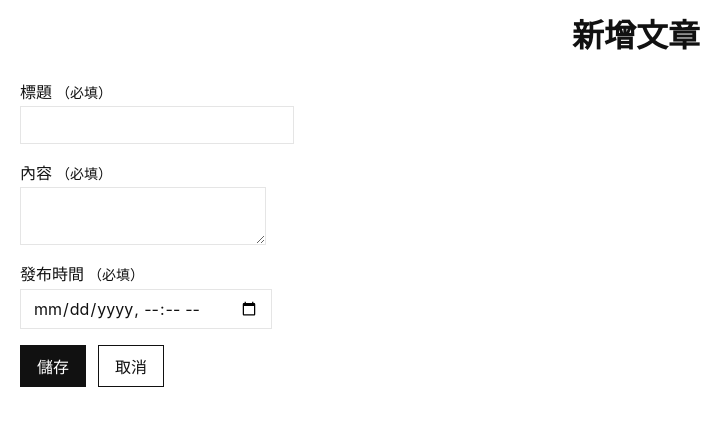
Scenario: ArticleForm › AC6: 標題留空送出時顯示「請輸入標題」錯誤,不導向,已填寫的其他欄位保留
Check: the heading "新增文章" is shown, box [572,16,700,55]
Type "我的內容" into the text box labelled "內容".
click(143, 216); type("我的內容")  # box [20,187,266,245]
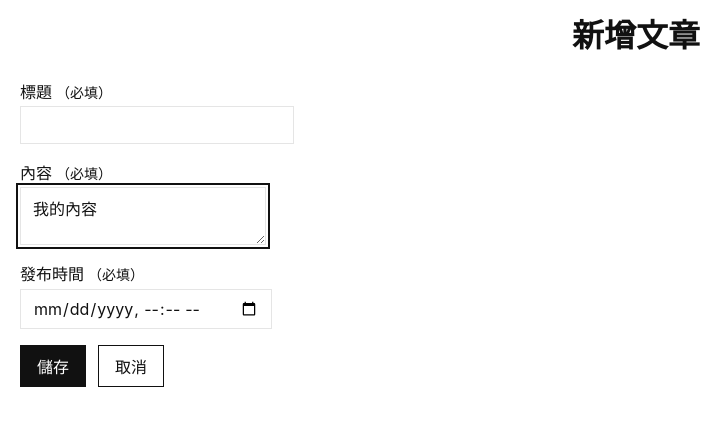
Type "2026-08-13T10:00" into the field labelled "發布時間".
click(146, 309); type("2026-08-13T10:00")  # box [20,289,272,329]
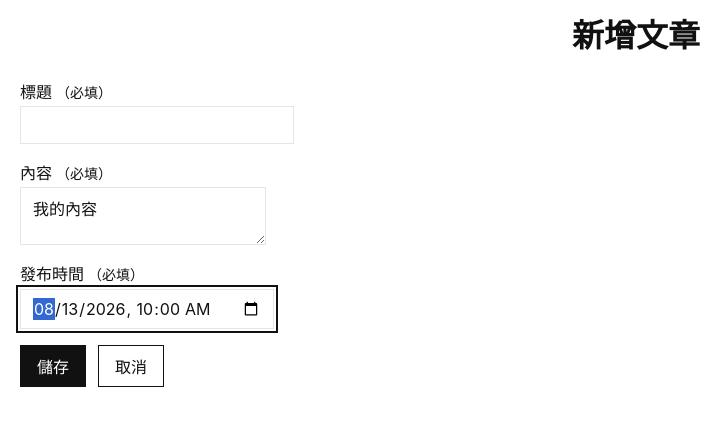
Click the button "儲存".
click(53, 366)  # box [20,345,86,387]
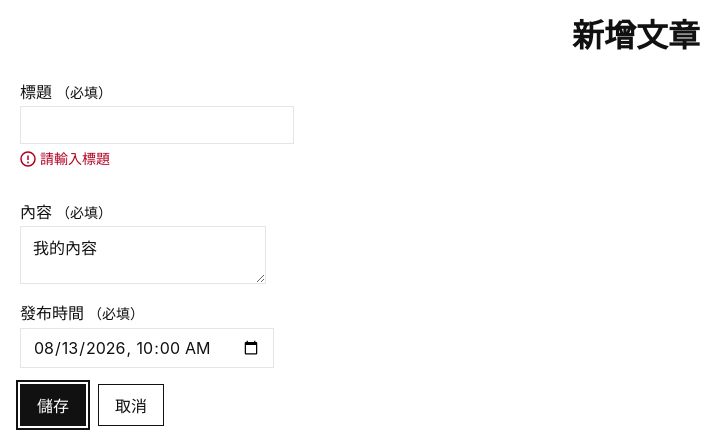
Check: the heading "新增文章" is shown, box [572,16,700,55]
Check: the message reads "請輸入標題", box [40,150,110,167]
